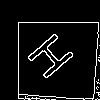H: (25, 25, 83, 82)
